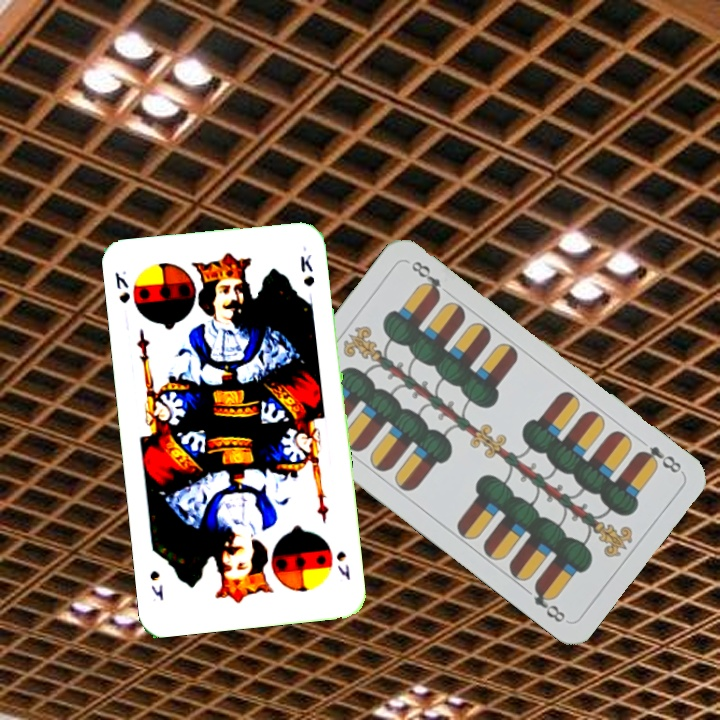E8: (633, 442, 684, 476)
SK: (111, 267, 132, 305), (332, 547, 353, 583)
